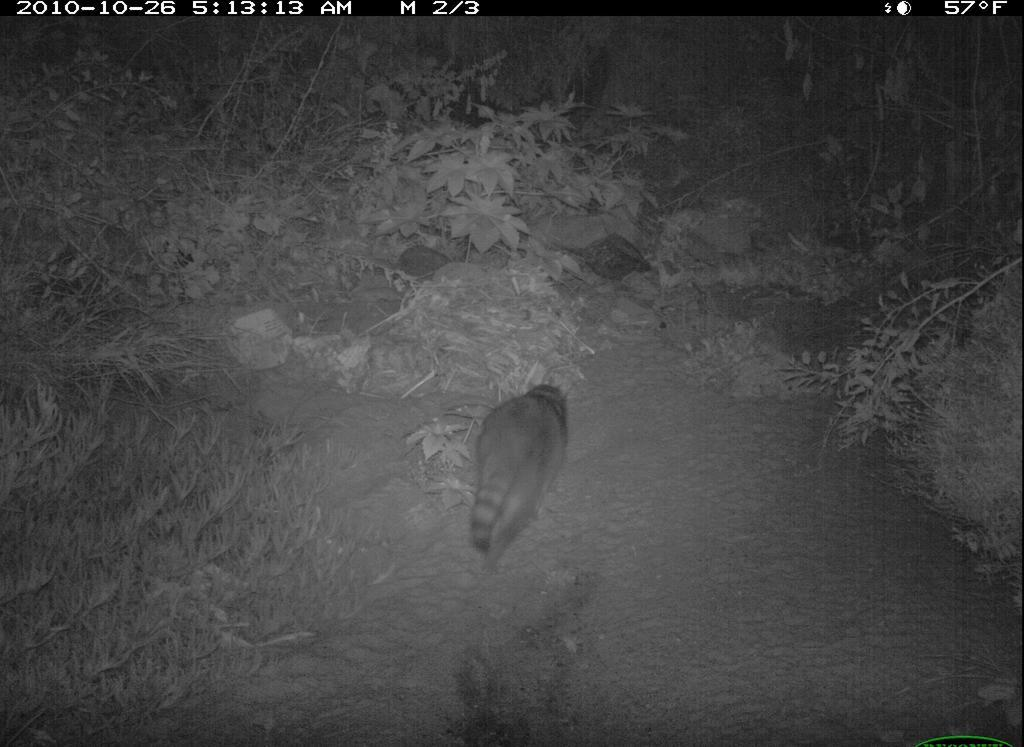raccoon: (452, 378, 570, 565)
